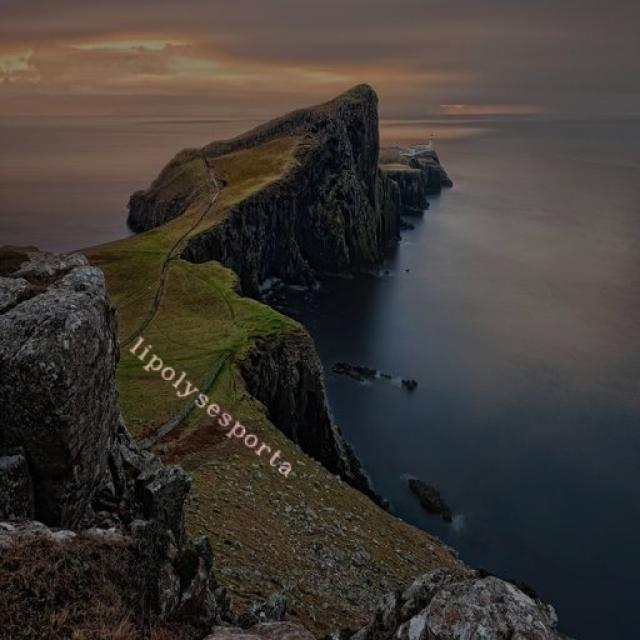watermark: (121, 330, 305, 482)
